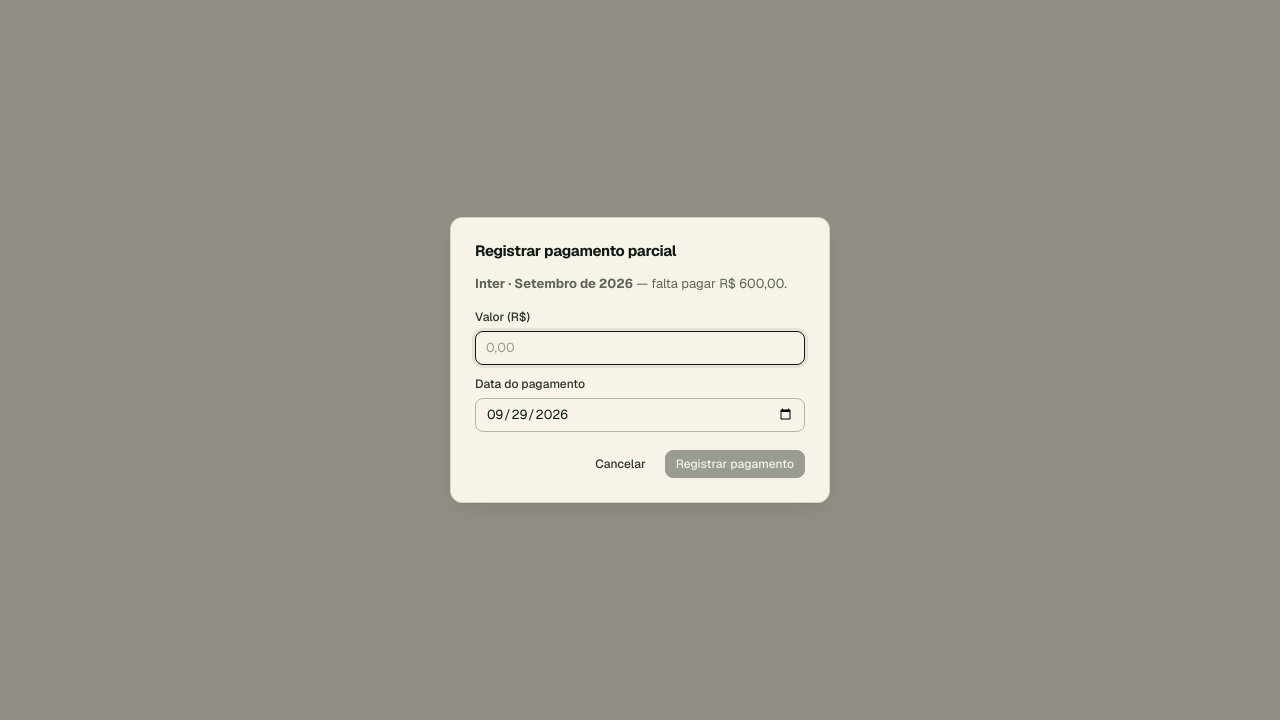
Test: RegistrarPagamentoParcialModal › valor que não é dinheiro não deixa registrar, e diz por quê
The image size is (1280, 720).
In the field labelled "Valor (R$)": {"x": 640, "y": 348} [475,331,805,365], type "abc"
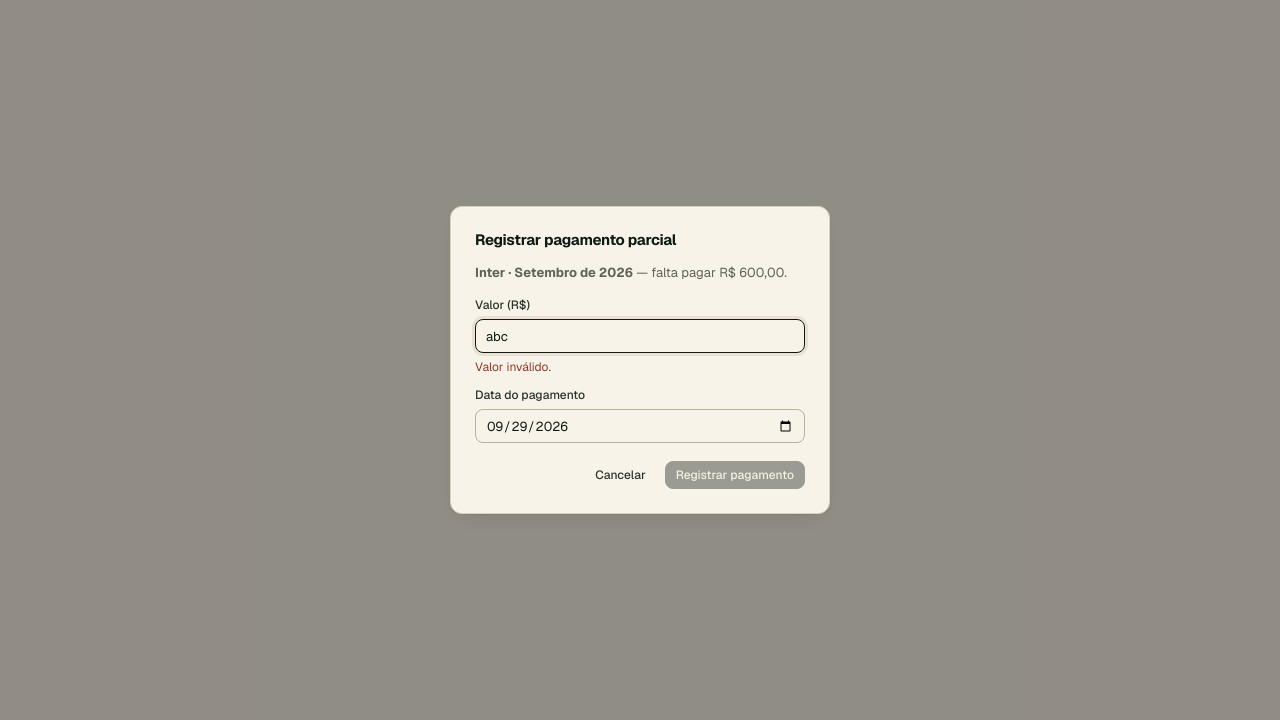
Check: the button "Registrar pagamento" is disabled, box [665,461,805,489]
Check: the text "Valor inválido." is shown, box [475,359,551,375]
